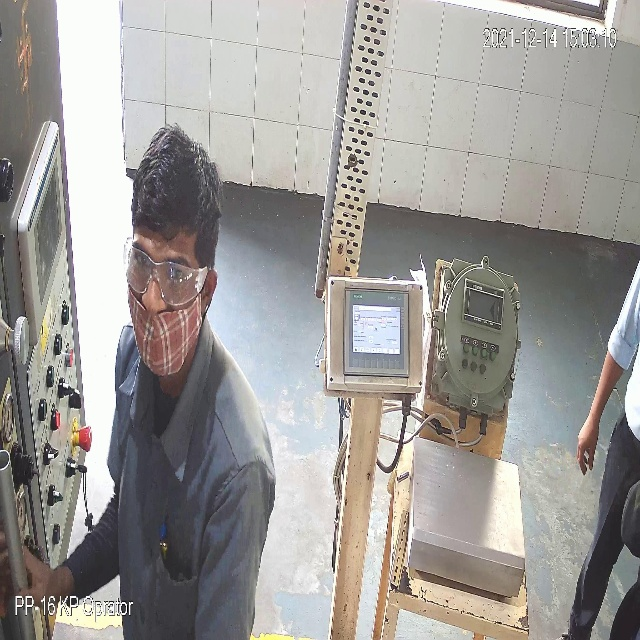Gafas: (124, 243, 207, 310)
